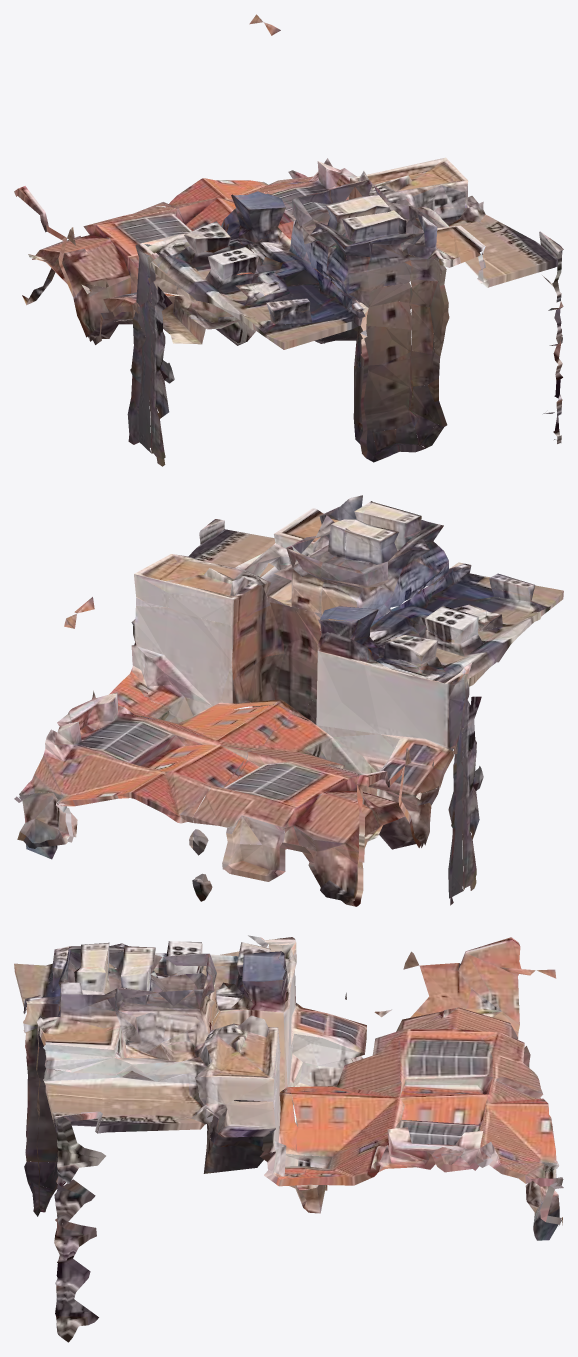
3 renders of one model, top to bottom at view 1: azimuth 30°, elevation 25°; view 2: azimuth 150°, elevation 25°; view 3: azimuth 270°, elevation 25°, orthographic. The views are drawn at different scales.
Parts seen in each view (by area): view 1: Mesh_0; view 2: Mesh_0; view 3: Mesh_0.
Boxes of the visible parts, x1=… form: Mesh_0: x1=14, y1=14, x2=563, y2=466; Mesh_0: x1=14, y1=495, x2=563, y2=906; Mesh_0: x1=14, y1=935, x2=563, y2=1342.
Bounding box in the file's own units: 33.32 × 27.34 × 41.32.
2 materials, 2 textured.
